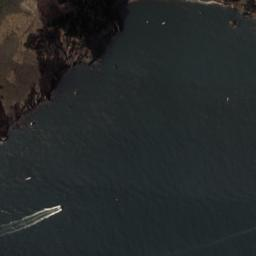boat: (52, 203, 62, 212), (24, 176, 32, 180)
